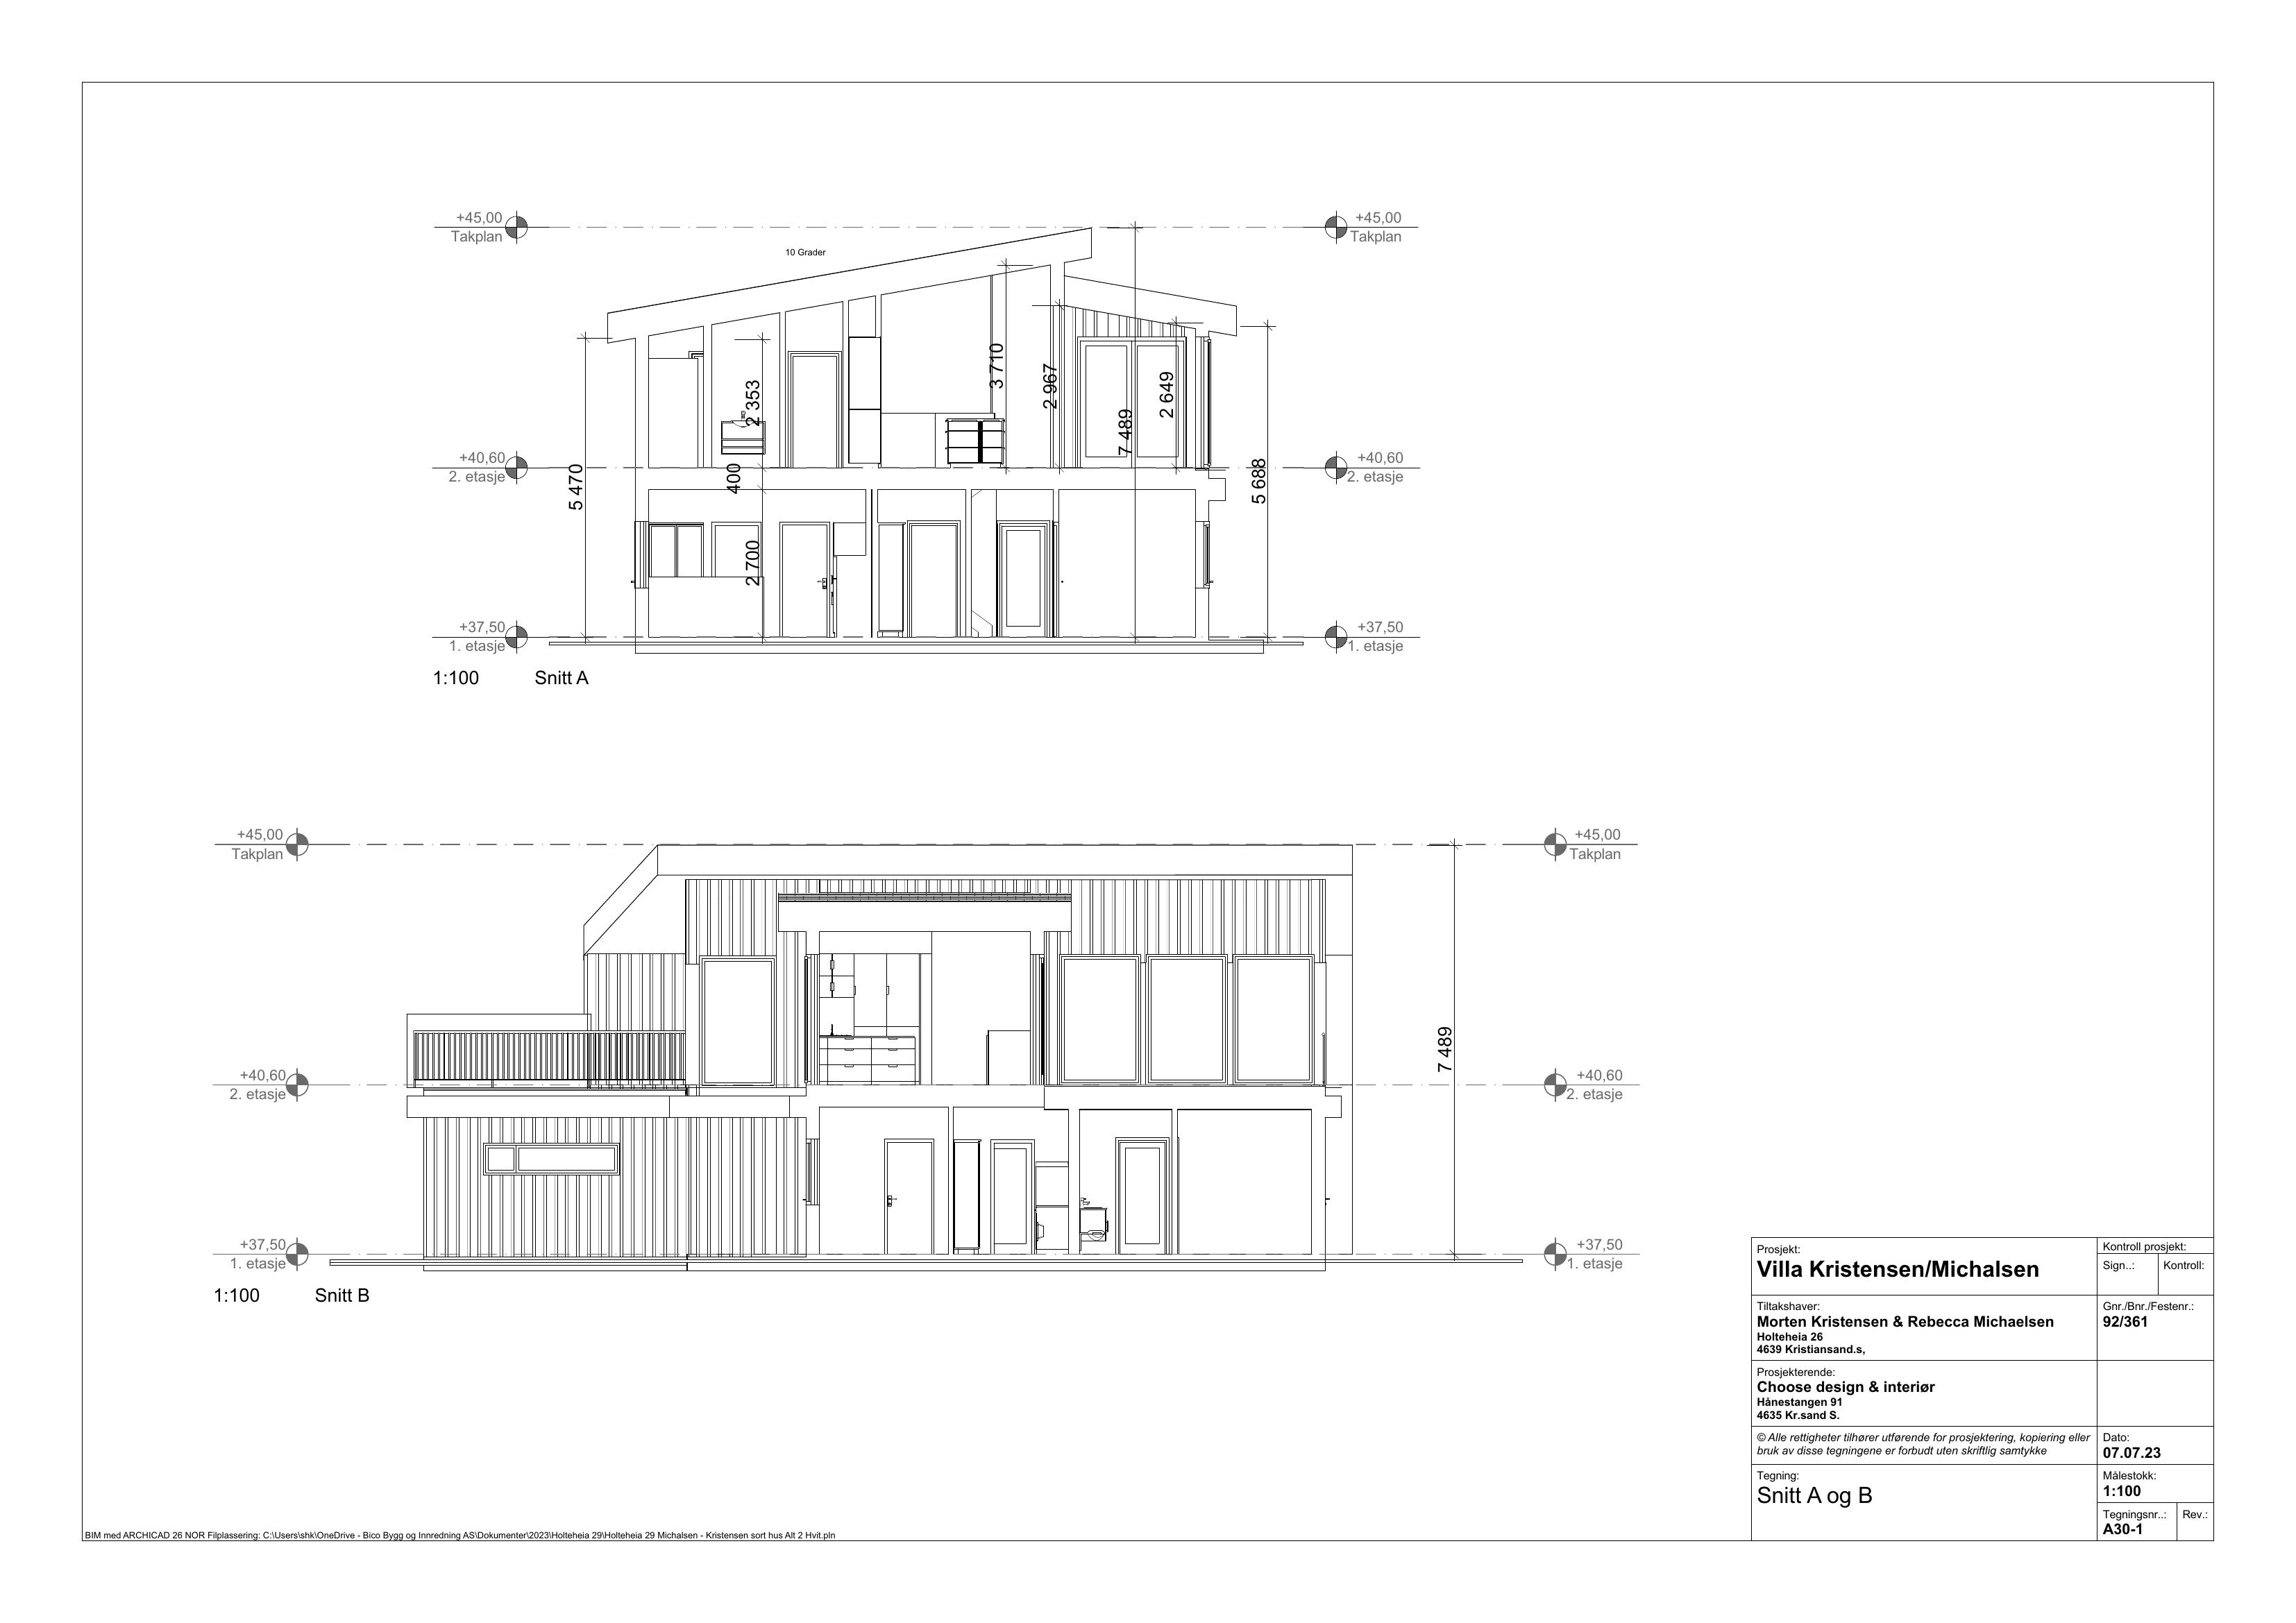snitt: (443, 155, 1423, 667)
